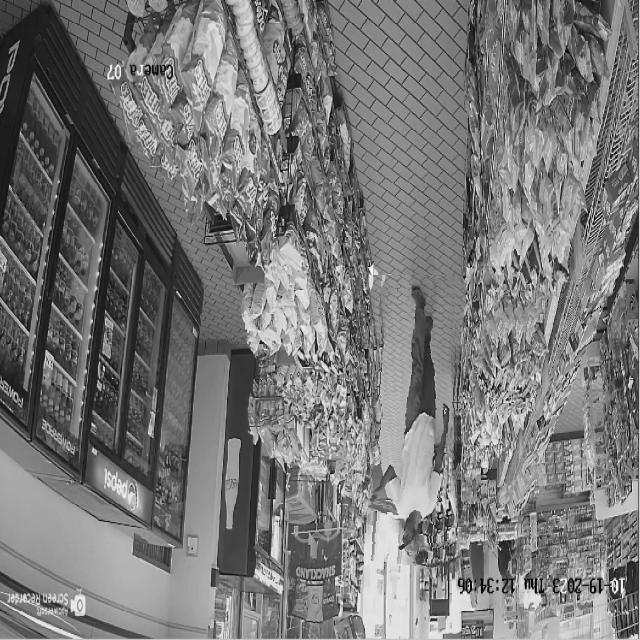Normal: (370, 275, 461, 566)
